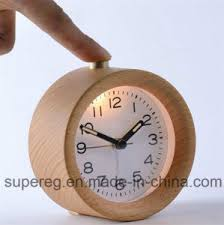alarm_clock: (27, 54, 201, 222), (27, 54, 201, 221), (32, 54, 201, 222), (27, 54, 196, 221), (32, 63, 201, 222)
